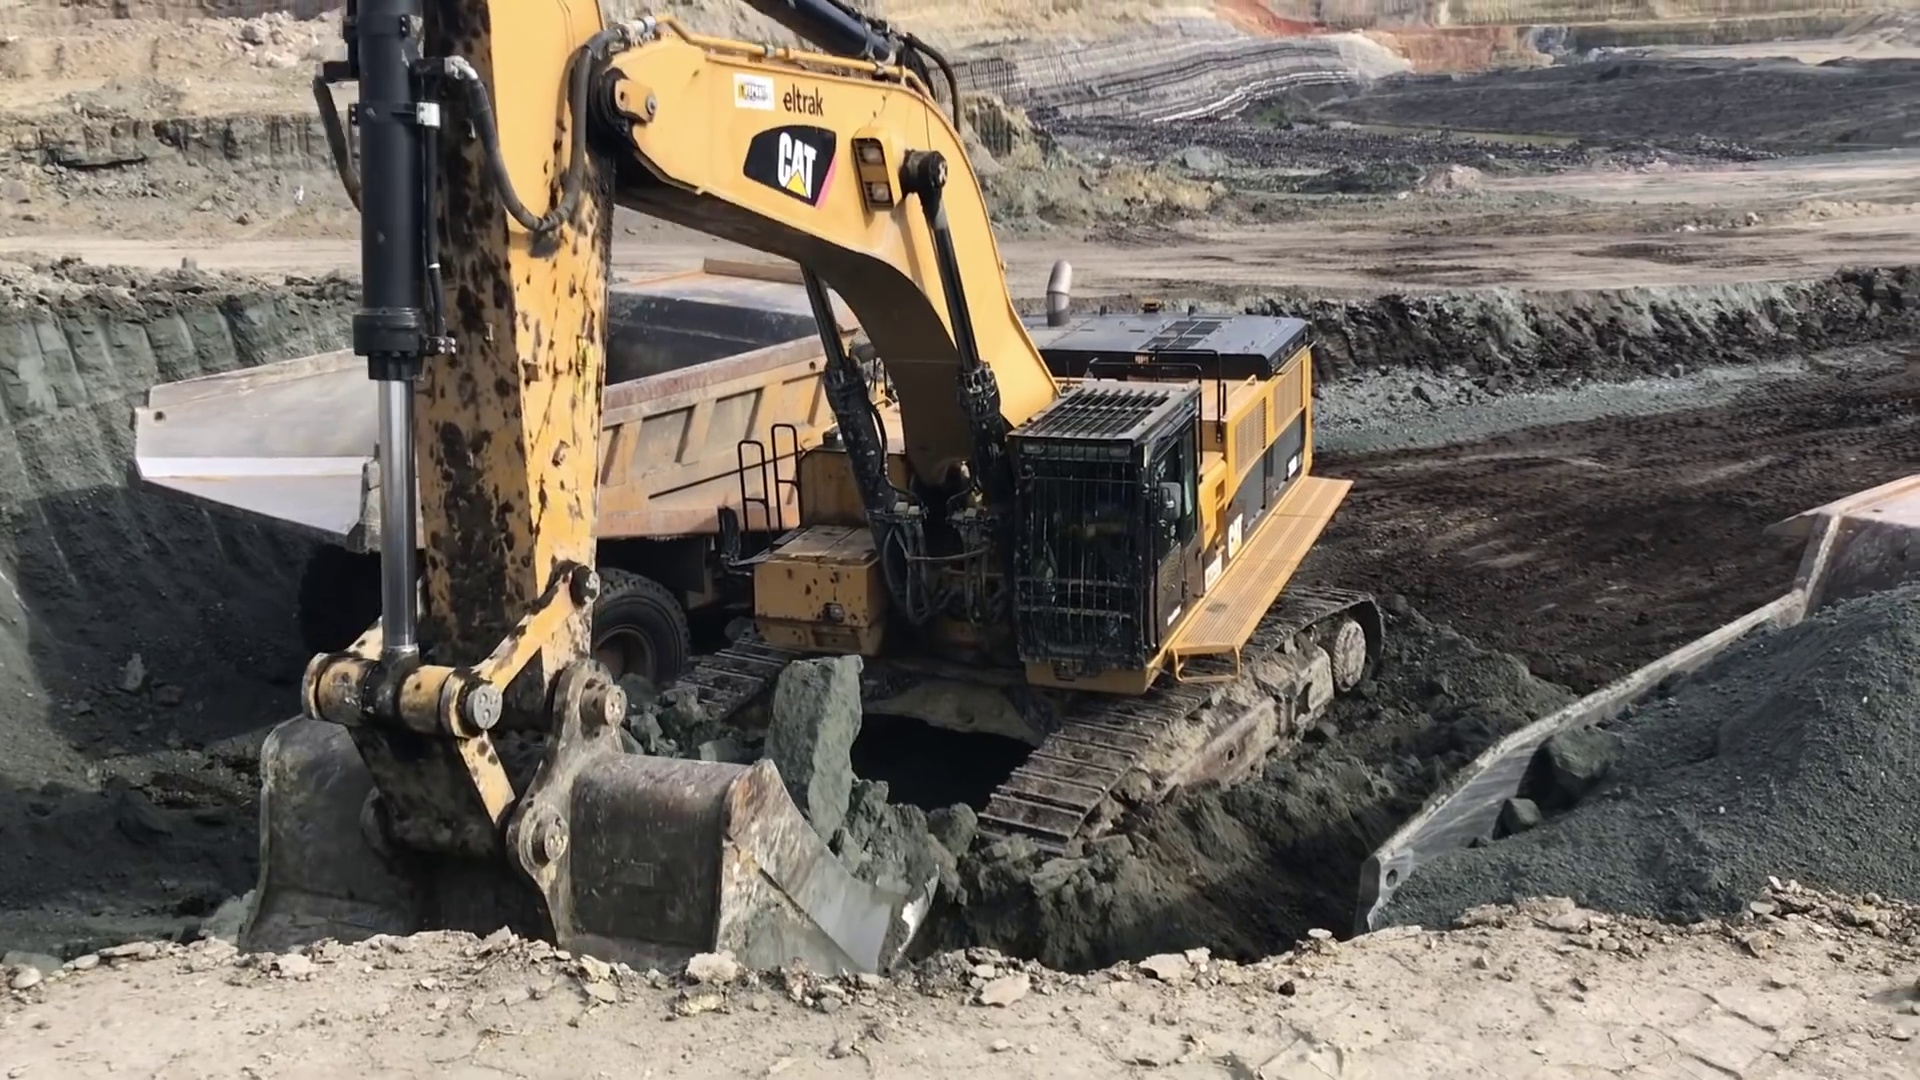dumper: (133, 257, 928, 723), (1362, 475, 1920, 978)
excavator: (237, 1, 1385, 1043)
